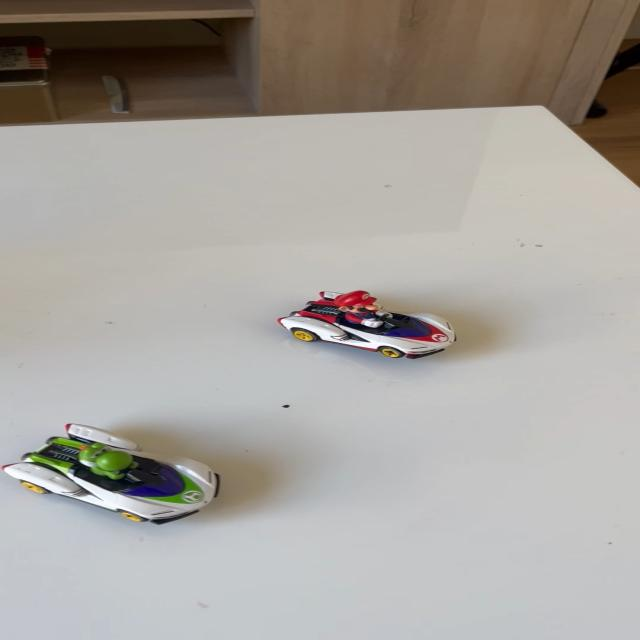mario: (267, 286, 476, 362)
yoshi: (0, 412, 239, 534)
